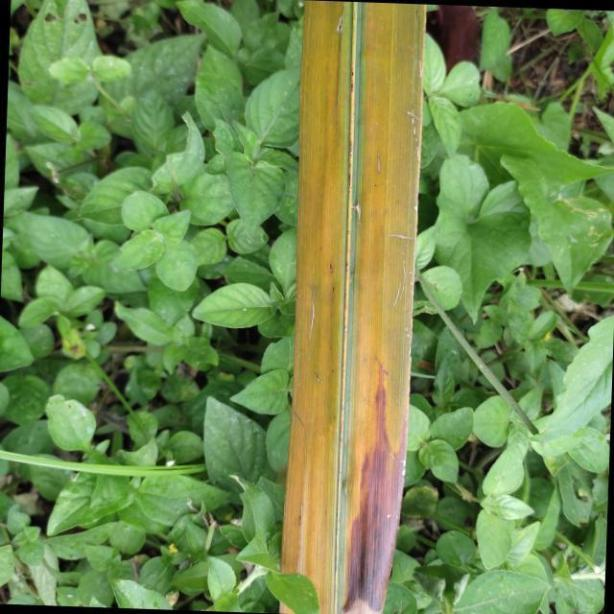Megnesium: (278, 0, 424, 614)
